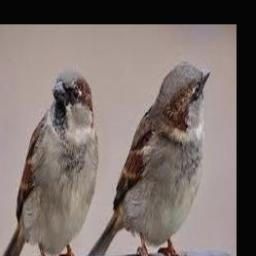Sparrow: (86, 62, 210, 256), (0, 68, 99, 256)
